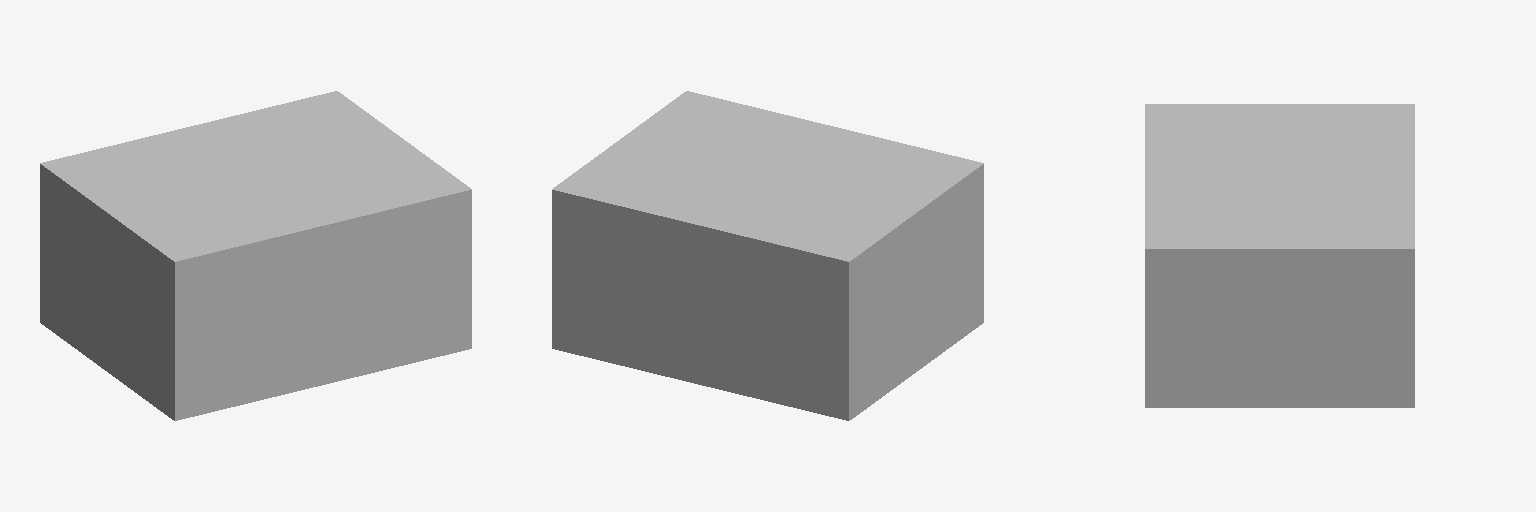
Rendered from Barn1.obj.
3 renders of one model, left to right at view 1: azimuth 30°, elevation 25°; view 2: azimuth 150°, elevation 25°; view 3: azimuth 270°, elevation 25°, orthographic.
Parts seen in each view (by area): view 1: Barn_-col; view 2: Barn_-col; view 3: Barn_-col.
Boxes of the visible parts, x1,y1,x2,y2 form: Barn_-col: [40, 91, 471, 420]; Barn_-col: [552, 91, 983, 420]; Barn_-col: [1145, 104, 1414, 407].
Size of the model in its own units: 10.44 by 5.34 by 8.2.